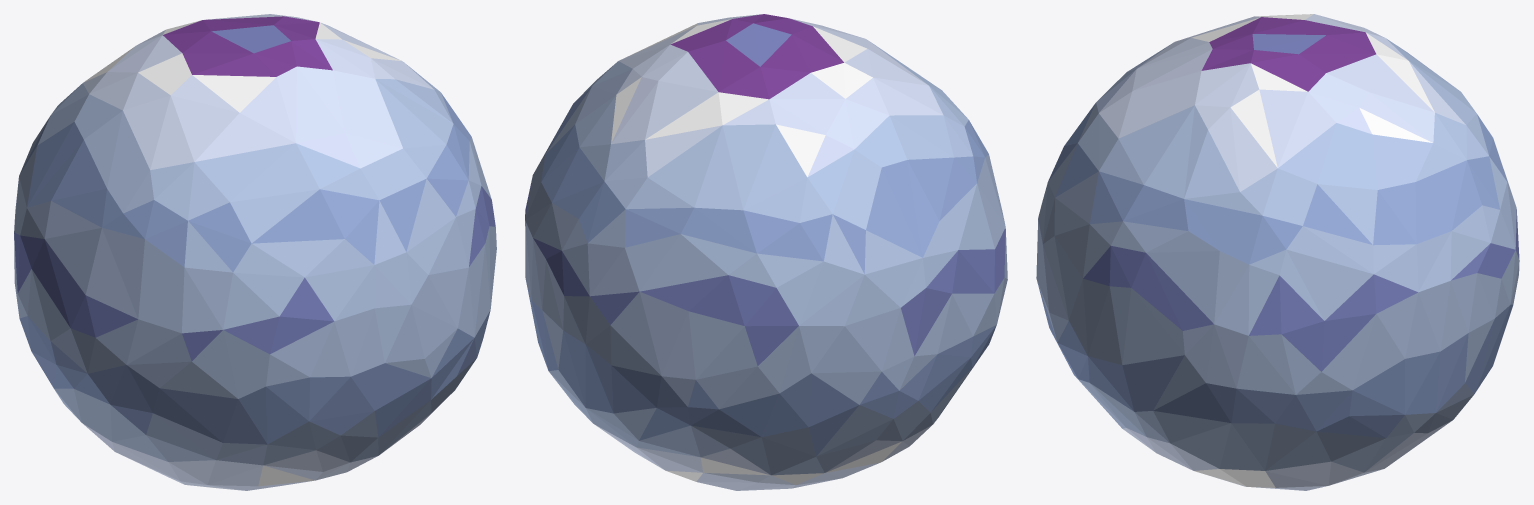
File: gasGiant2.fbx
3 renders of one model, left to right at view 1: azimuth 30°, elevation 25°; view 2: azimuth 150°, elevation 25°; view 3: azimuth 270°, elevation 25°, orthographic.
Visible parts, largest first — view 1: GasGiant2; view 2: GasGiant2; view 3: GasGiant2.
Boxes of the visible parts, <box> form: GasGiant2: <box>14,14,496,490</box>; GasGiant2: <box>525,14,1007,490</box>; GasGiant2: <box>1036,14,1519,490</box>.
Bounding box in the file's own units: 984 × 965 × 987.
Materials: 1 (1 with a texture image).
